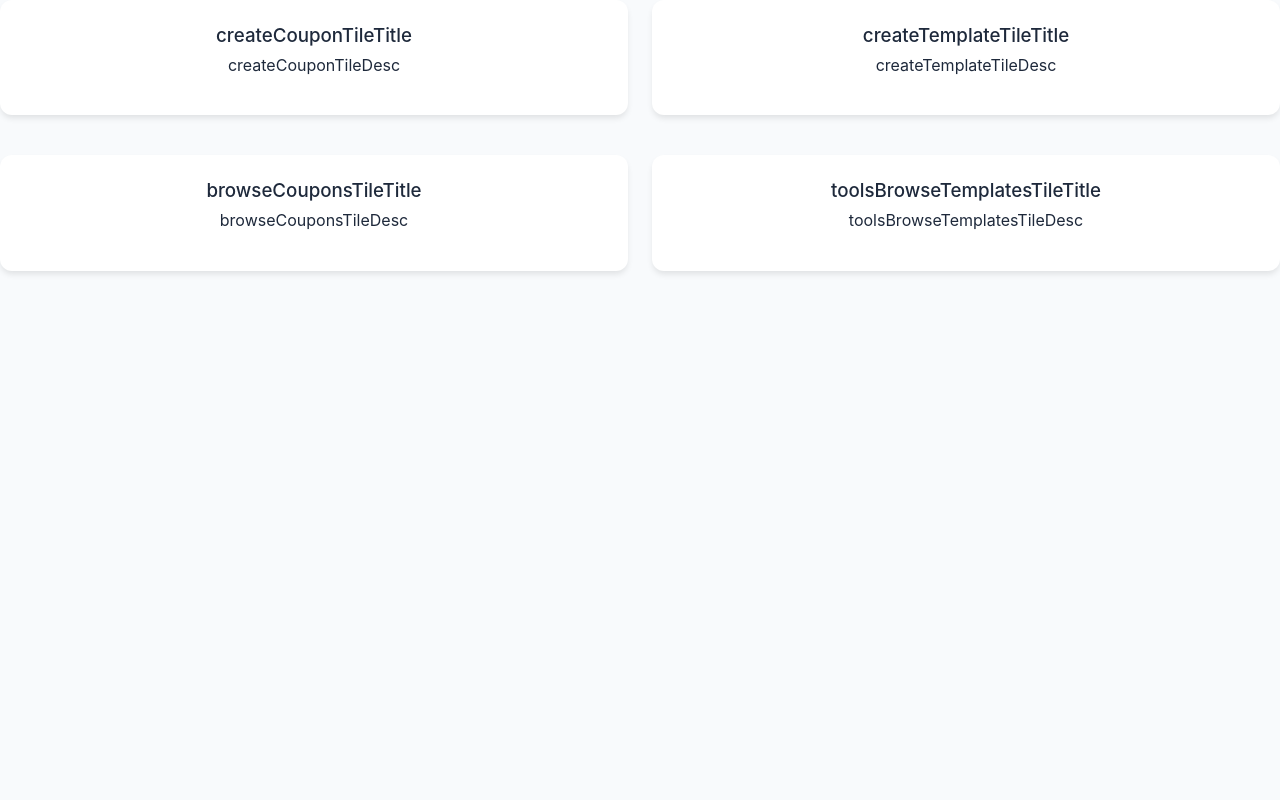
it: CouponsSection › narrows the list to the searched code
Click the heading "browseCouponsTileTitle". click: (314, 191)
box: [206,179,422,202]
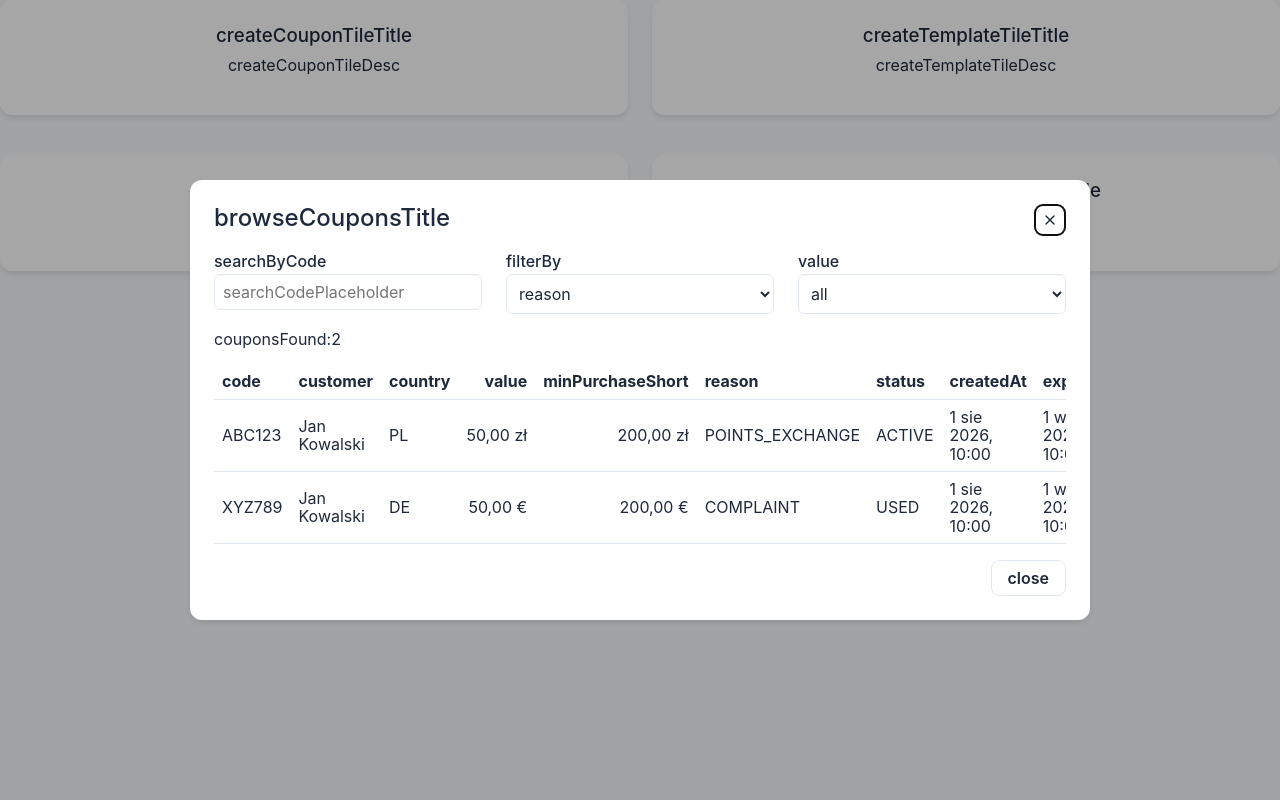
Type "abc" into the search field labelled "searchByCode". click: (348, 292)
box: [214,274,482,310]
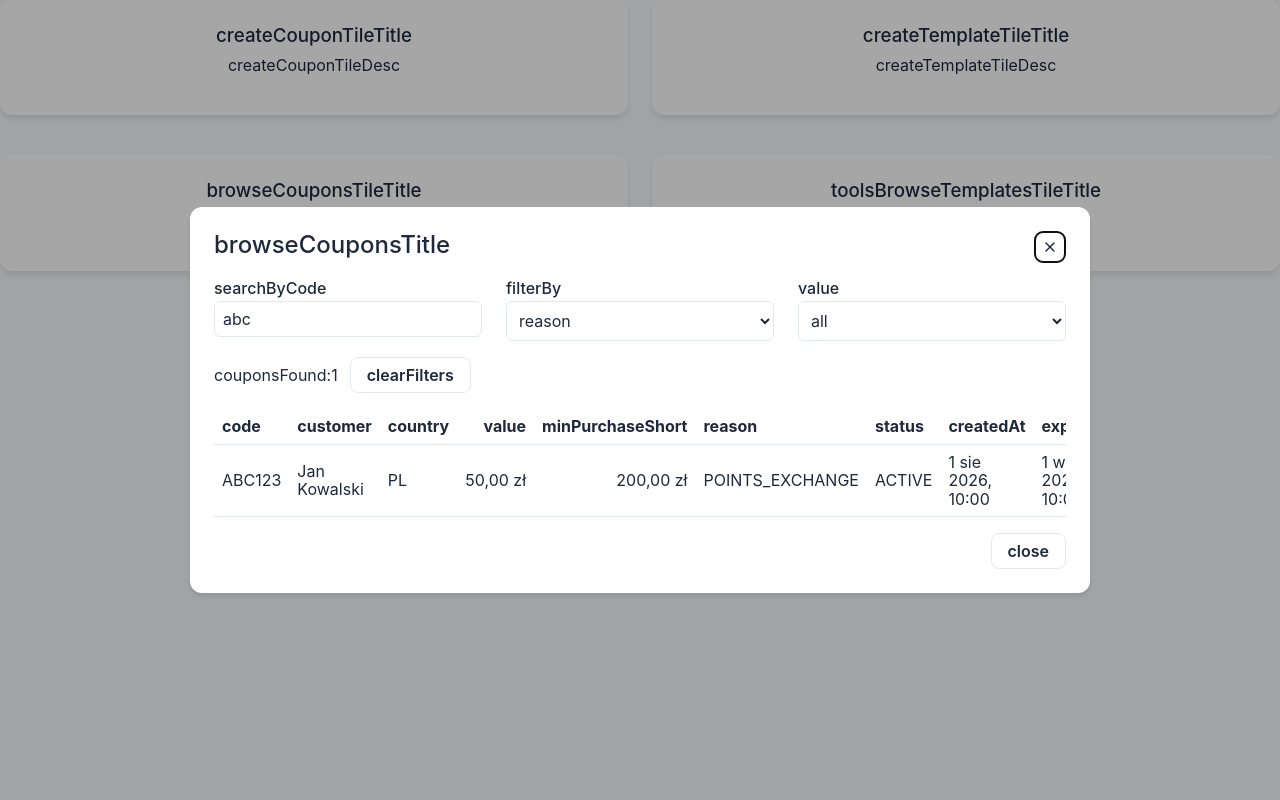
Result: the text "ABC123" is shown at [214,444,289,516]
Result: the text "XYZ789" is gone
